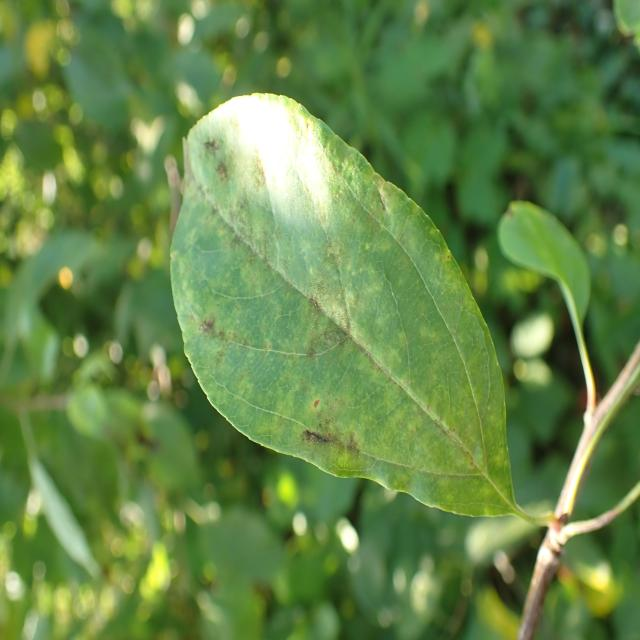scab: (135, 113, 508, 511)
